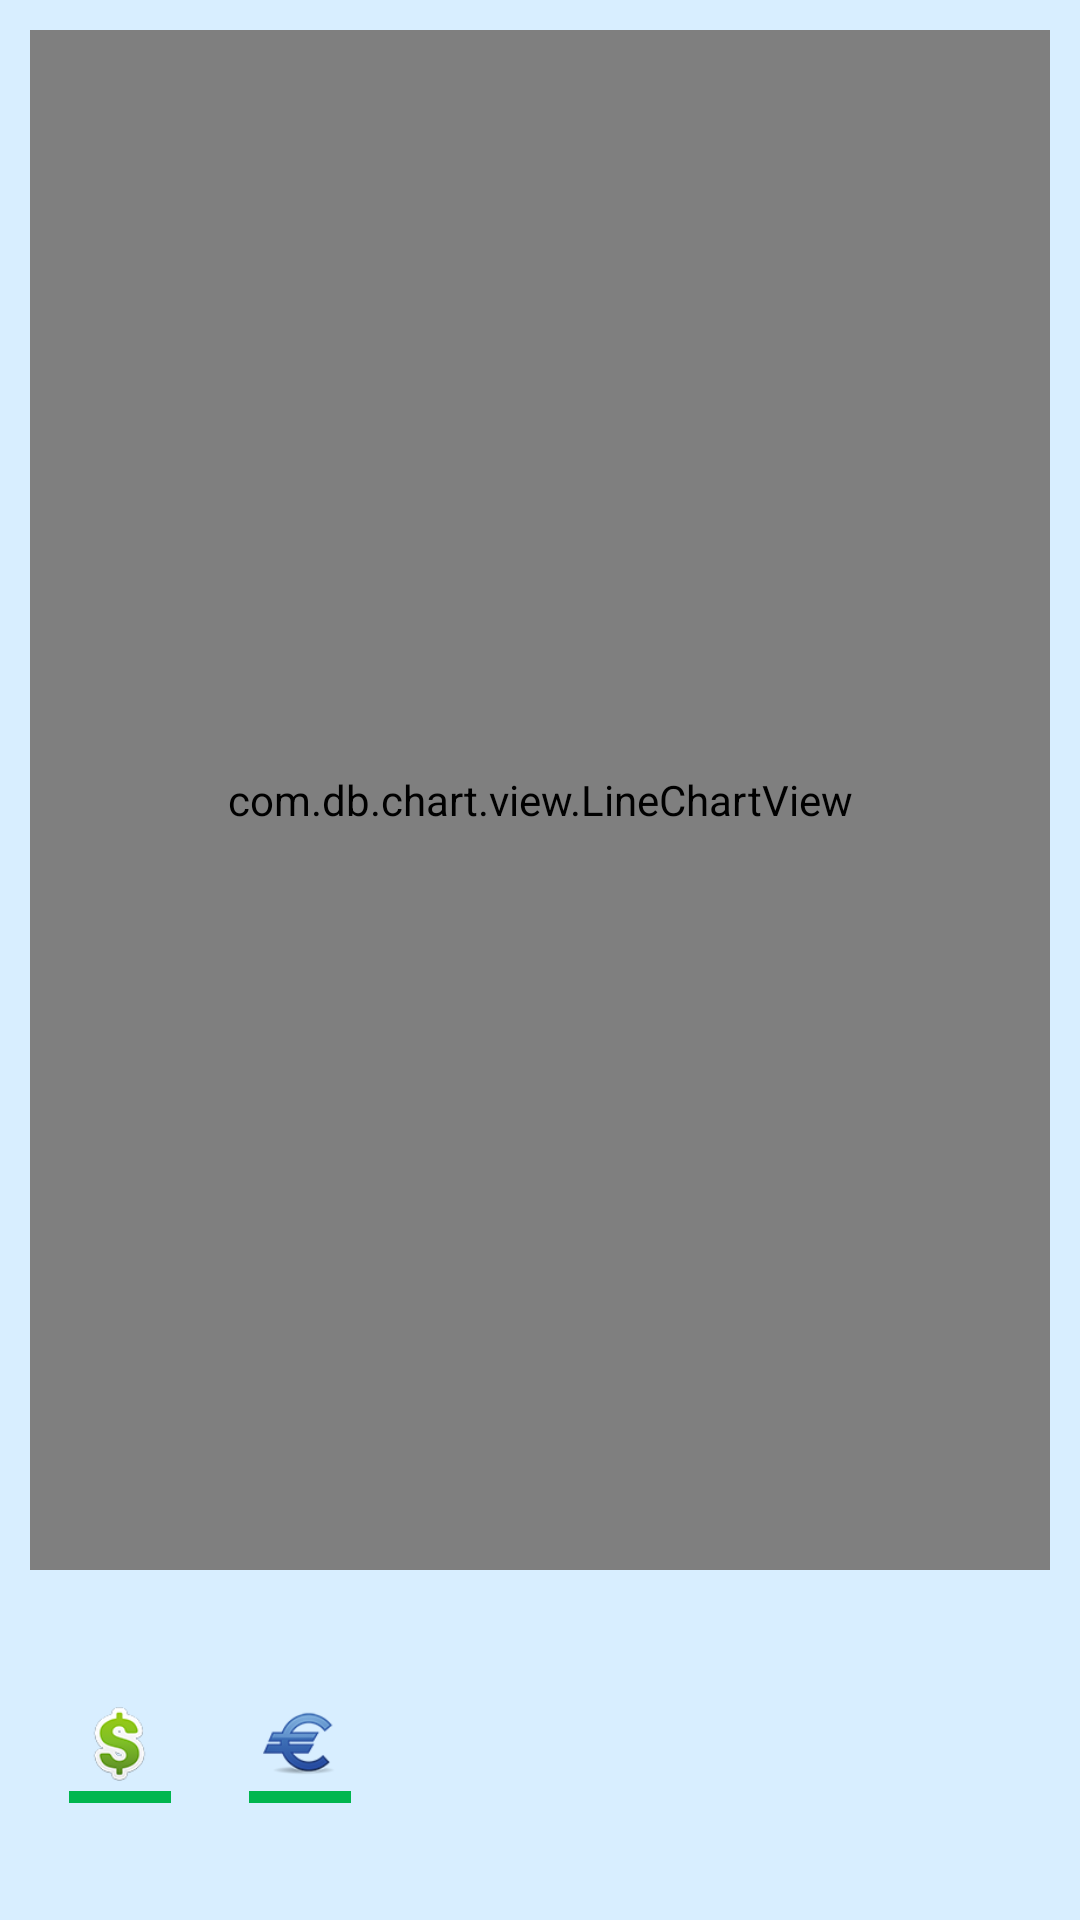

Icons on this 1080px x 1920px Android screen, each with its box as (x1, y1, x2, y2):
dollar: (94, 1707, 145, 1781)
eur: (263, 1713, 333, 1773)
